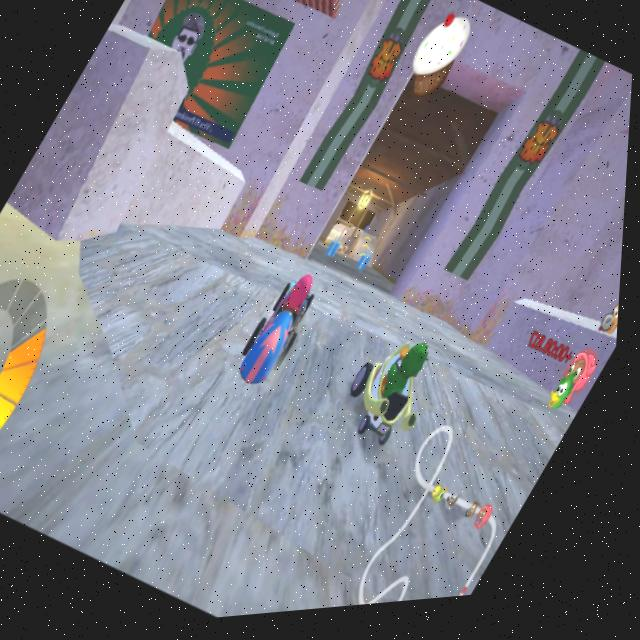bonus: (353, 254, 382, 285), (324, 241, 348, 269)
enemy_kart: (337, 331, 467, 463)
player_kart: (231, 270, 332, 401)
